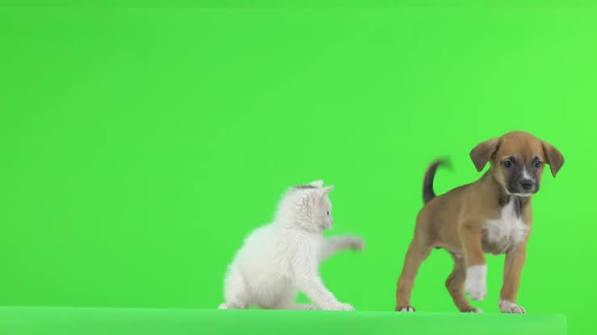non-dog: (217, 176, 372, 317)
puppy-dog: (393, 129, 566, 319)
